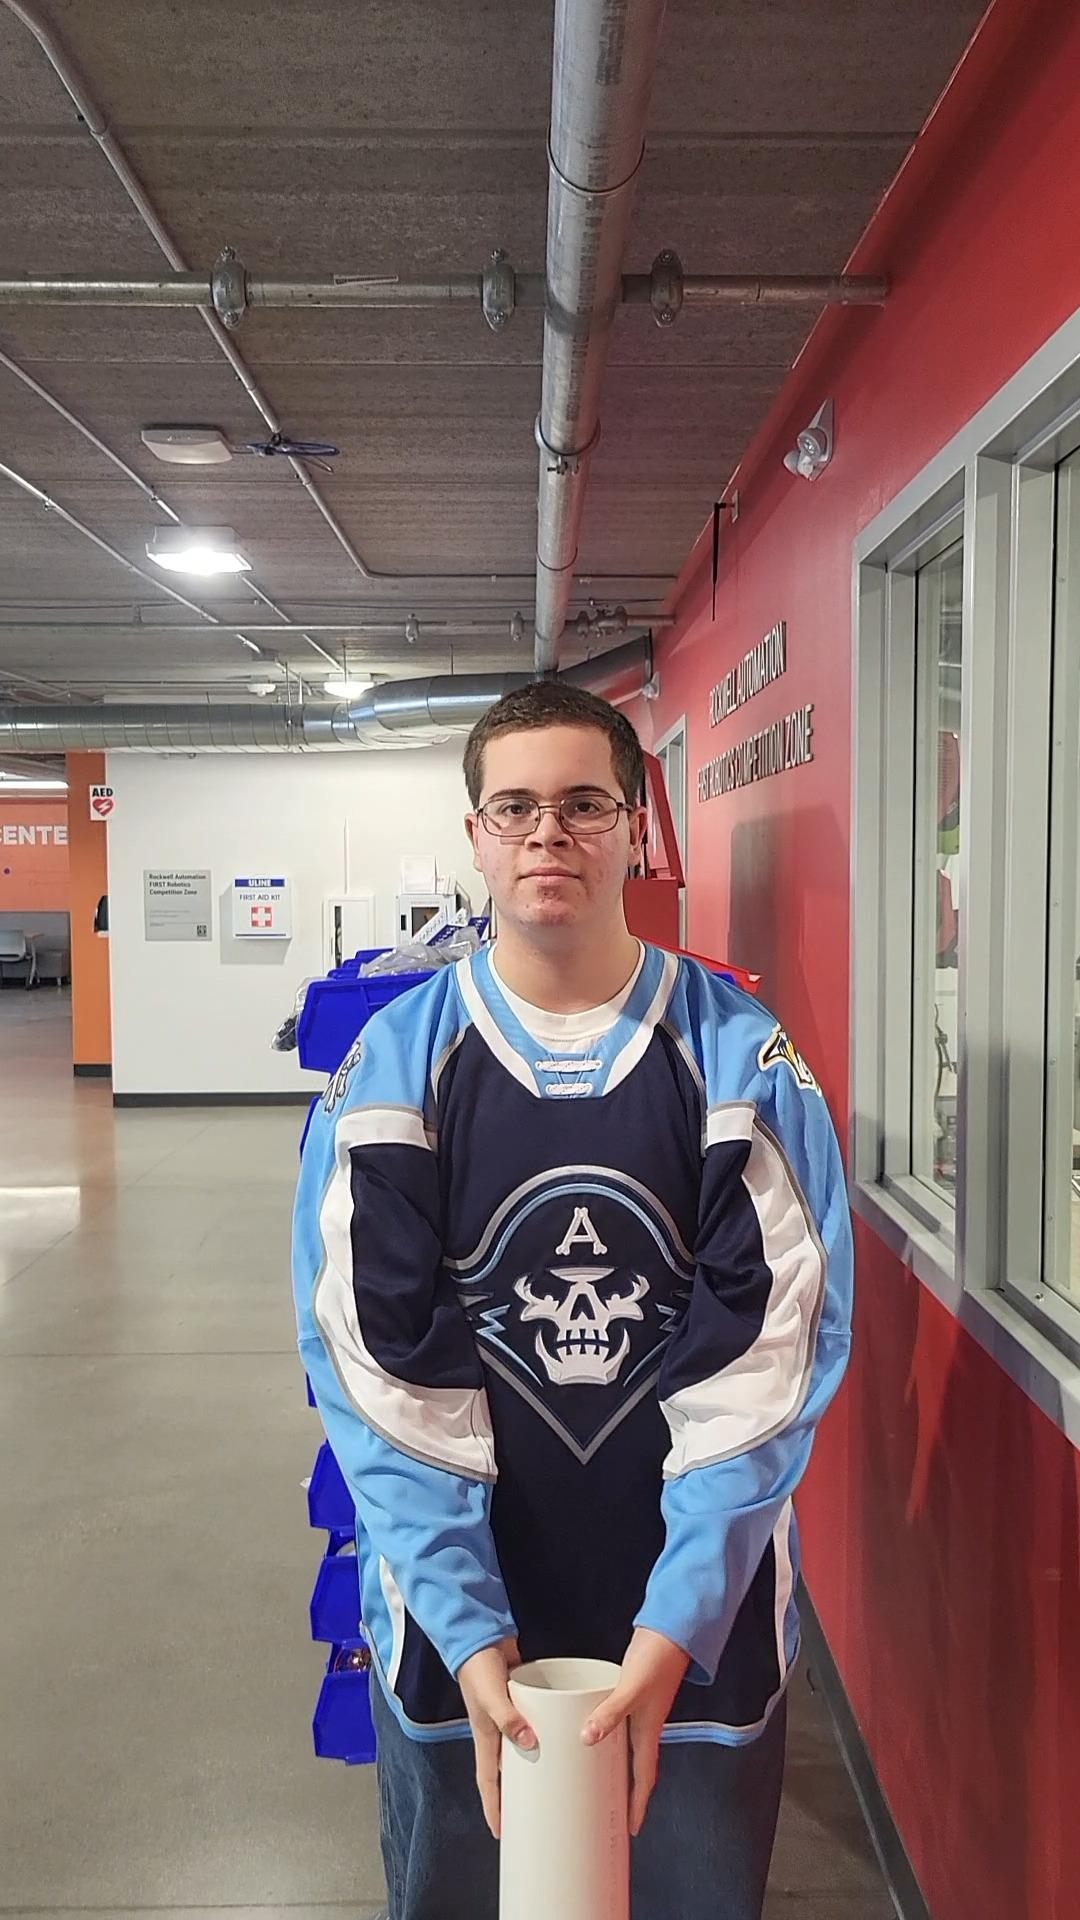coral: (487, 1647, 653, 1920)
